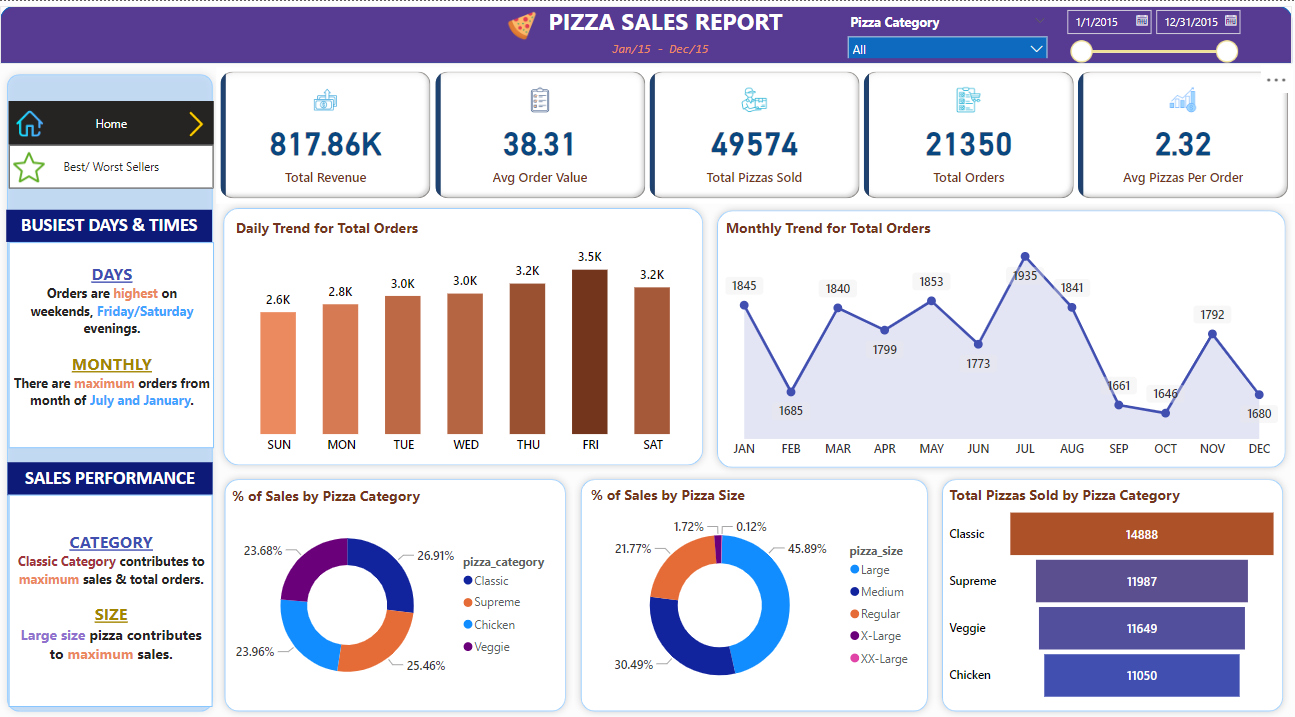

This screenshot's page, from the dashboard's own definition file:
{"tool":"powerbi","page":{"name":"Home","canvas":[1500,820],"ordinal":0},"visuals":[{"type":"shape","box":[5.7,75.7,251.1,744.3],"z":0},{"type":"cardVisual","fields":{"Data":["pizza_sales.Total Revenue","pizza_sales.Avg Order Value","pizza_sales.Total Pizzas Sold","pizza_sales.Total Orders","pizza_sales.Avg Pizzas Per Order"]},"box":[252.9,75.7,1230,155.7],"z":1000},{"type":"shape","box":[5.7,5.7,1477.1,65.7],"z":2000},{"type":"textbox","box":[610,0,312.9,58.6],"z":3000},{"type":"textbox","box":[700,40,134.3,37.1],"z":4000},{"type":"image","box":[424,7.1,355.7,42.9],"z":5000},{"type":"shape","box":[252.9,228.6,564.3,310],"z":6000},{"type":"columnChart","title":"Daily Trend for Total Orders","fields":{"Category":["pizza_sales.Order Day"],"Y":["pizza_sales.Total Orders"]},"box":[270,247.1,537.1,280],"z":7000},{"type":"shape","box":[817.1,231.4,665.7,310],"z":8000},{"type":"areaChart","title":"Monthly Trend for Total Orders","fields":{"Category":["pizza_sales.Order Month"],"Y":["pizza_sales.Total Orders"]},"box":[830,247.1,641.4,284.6],"z":9000},{"type":"shape","box":[254.3,538.6,406,281.4],"z":10000},{"type":"shape","box":[661.4,538.6,412.6,281.4],"z":11000},{"type":"shape","box":[1073.7,538.6,405.7,281.4],"z":12000},{"type":"donutChart","title":"% of Sales by Pizza Category","fields":{"Category":["pizza_sales.pizza_category"],"Y":["pizza_sales.Total Revenue"]},"box":[265.7,554.3,382.9,250.9],"z":13000},{"type":"donutChart","title":"% of Sales by Pizza Size","fields":{"Y":["pizza_sales.Total Revenue"],"Category":["pizza_sales.pizza_size"]},"box":[675.7,552.9,385.7,254.3],"z":14000},{"type":"funnel","title":"Total Pizzas Sold by Pizza Category","fields":{"Category":["pizza_sales.pizza_category"],"Y":["pizza_sales.Total Pizzas Sold"]},"box":[1085.7,552.9,385.7,252.9],"z":15000},{"type":"textbox","box":[13.3,239.2,235,36.7],"z":16000},{"type":"textbox","box":[15,275.8,234.2,235],"z":17000},{"type":"textbox","box":[14.2,527.5,234.2,37.5],"z":18000},{"type":"textbox","box":[15,564.2,232.5,242.5],"z":19000},{"type":"slicer","fields":{"Values":["pizza_sales.pizza_category"]},"box":[964.2,9.2,248.3,56.7],"z":20000},{"type":"slicer","fields":{"Values":["pizza_sales.order_date"]},"box":[1212.5,0,215.8,71.7],"z":21000},{"type":"pageNavigator","box":[15.7,114.3,234.3,50],"z":22000},{"type":"pageNavigator","box":[15.7,164.3,234.3,50],"z":23000},{"type":"image","box":[202.9,121.4,54.3,38.6],"z":24000},{"type":"image","box":[15.7,120,47.1,40],"z":24001},{"type":"image","box":[12.9,167.1,51.4,45.7],"z":24002}]}

Visuals, with their boxes in screenshot pixels (x1, y1, x2, y2), scaled from the page's 1500x820 canvas onto the 1295x717 screenshot:
shape: [5, 66, 222, 716]
cardVisual - pizza_sales.Total Revenue x pizza_sales.Avg Order Value: [218, 66, 1280, 202]
shape: [5, 5, 1280, 62]
textbox: [527, 0, 797, 51]
textbox: [604, 35, 720, 67]
image: [366, 6, 673, 44]
shape: [218, 200, 706, 471]
"Daily Trend for Total Orders" columnChart: [233, 216, 697, 461]
shape: [705, 202, 1280, 473]
"Monthly Trend for Total Orders" areaChart: [717, 216, 1270, 465]
shape: [220, 471, 570, 716]
shape: [571, 471, 927, 716]
shape: [927, 471, 1277, 716]
"% of Sales by Pizza Category" donutChart: [229, 485, 560, 704]
"% of Sales by Pizza Size" donutChart: [583, 483, 916, 706]
"Total Pizzas Sold by Pizza Category" funnel: [937, 483, 1270, 705]
textbox: [11, 209, 214, 241]
textbox: [13, 241, 215, 447]
textbox: [12, 461, 214, 494]
textbox: [13, 493, 214, 705]
slicer - pizza_sales.pizza_category: [832, 8, 1047, 58]
slicer - pizza_sales.order_date: [1047, 0, 1233, 63]
pageNavigator: [14, 100, 216, 144]
pageNavigator: [14, 144, 216, 187]
image: [175, 106, 222, 140]
image: [14, 105, 54, 140]
image: [11, 146, 56, 186]
